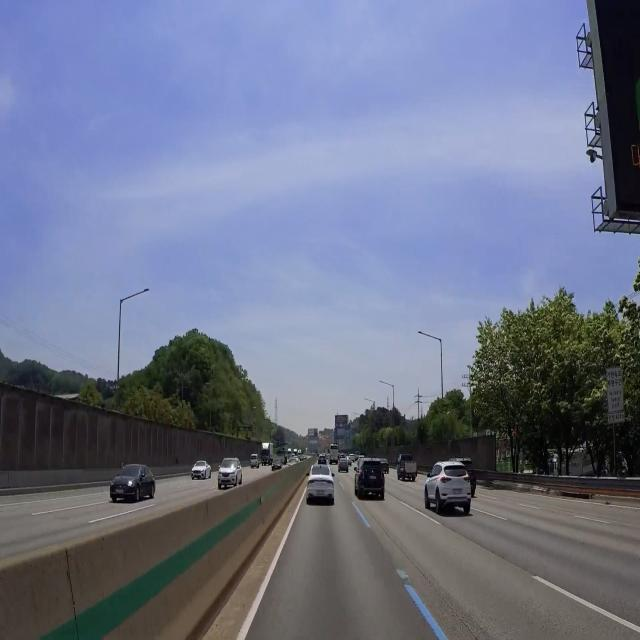car: (313, 486, 328, 502), (114, 485, 125, 501), (451, 486, 465, 497), (368, 472, 378, 485), (221, 475, 231, 485), (406, 472, 413, 481), (193, 472, 201, 479)
